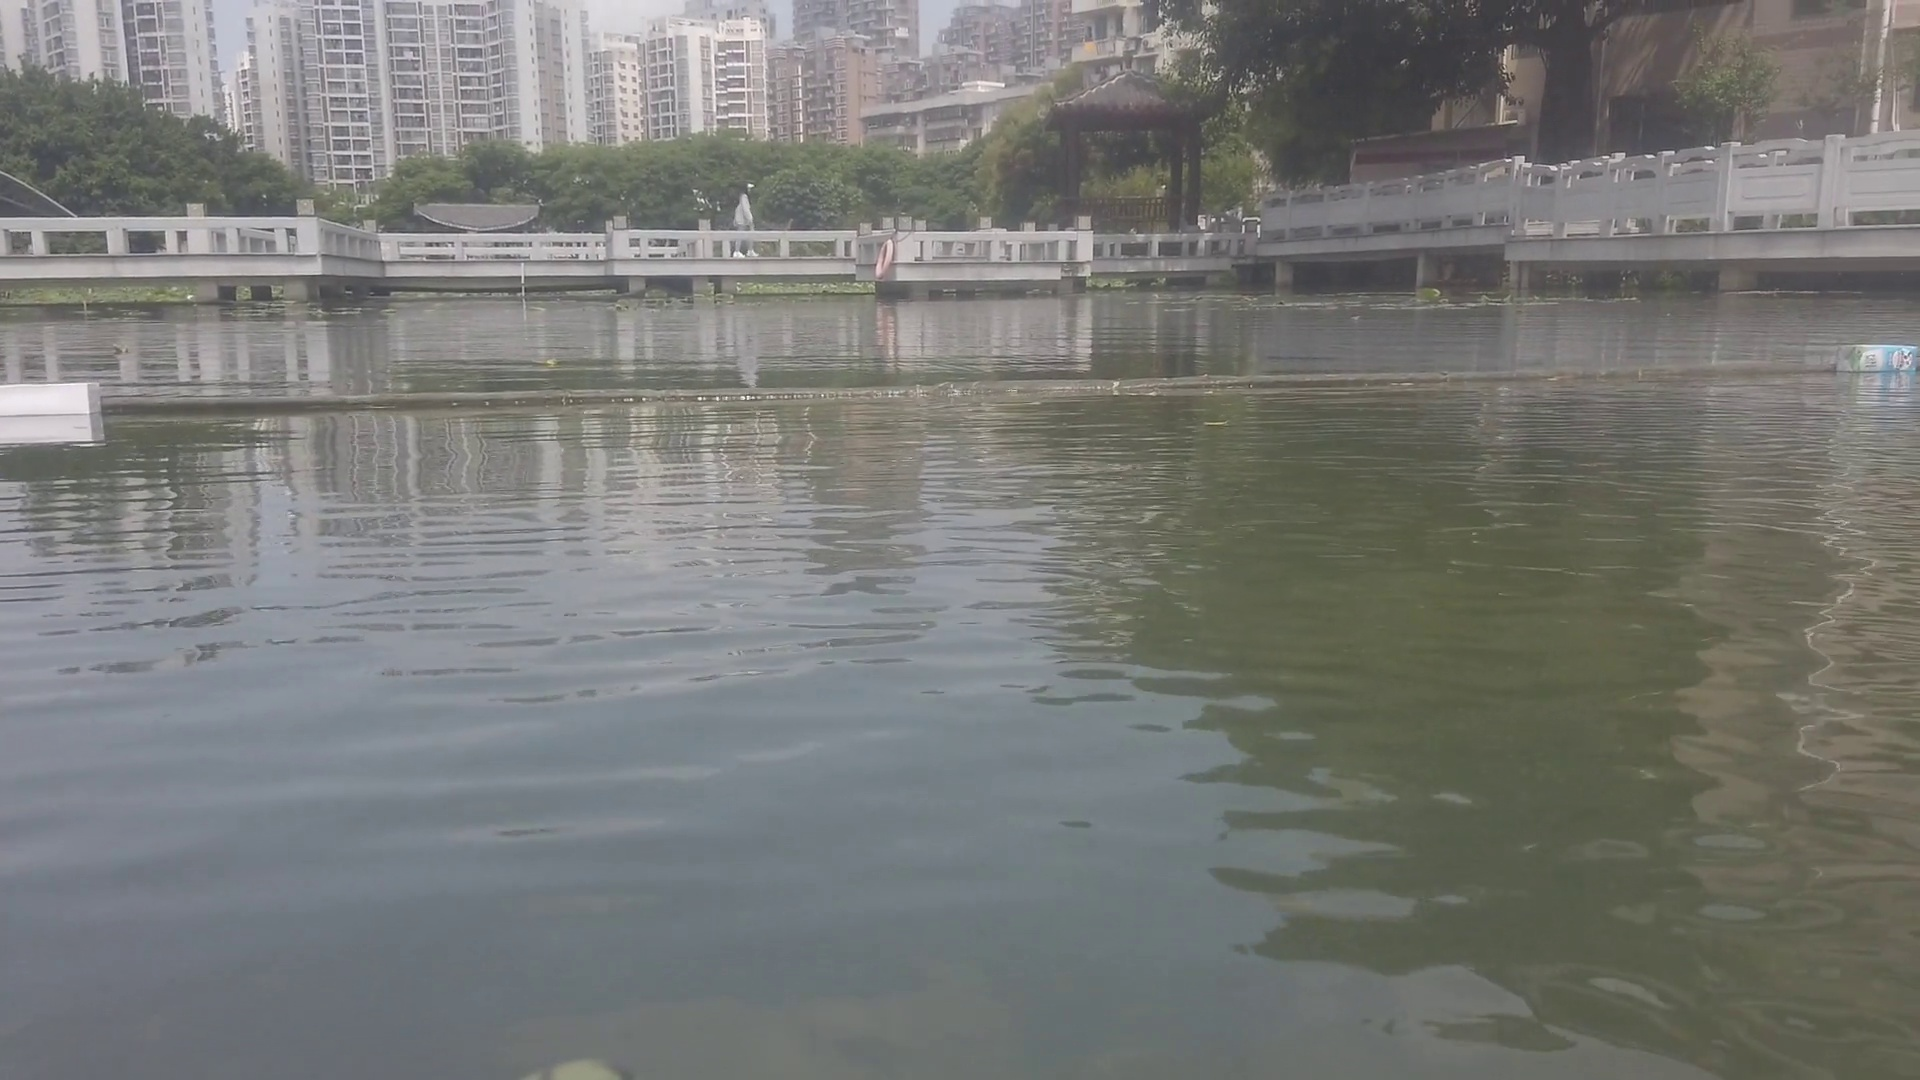carton: (1, 378, 115, 411), (1833, 338, 1920, 369)
